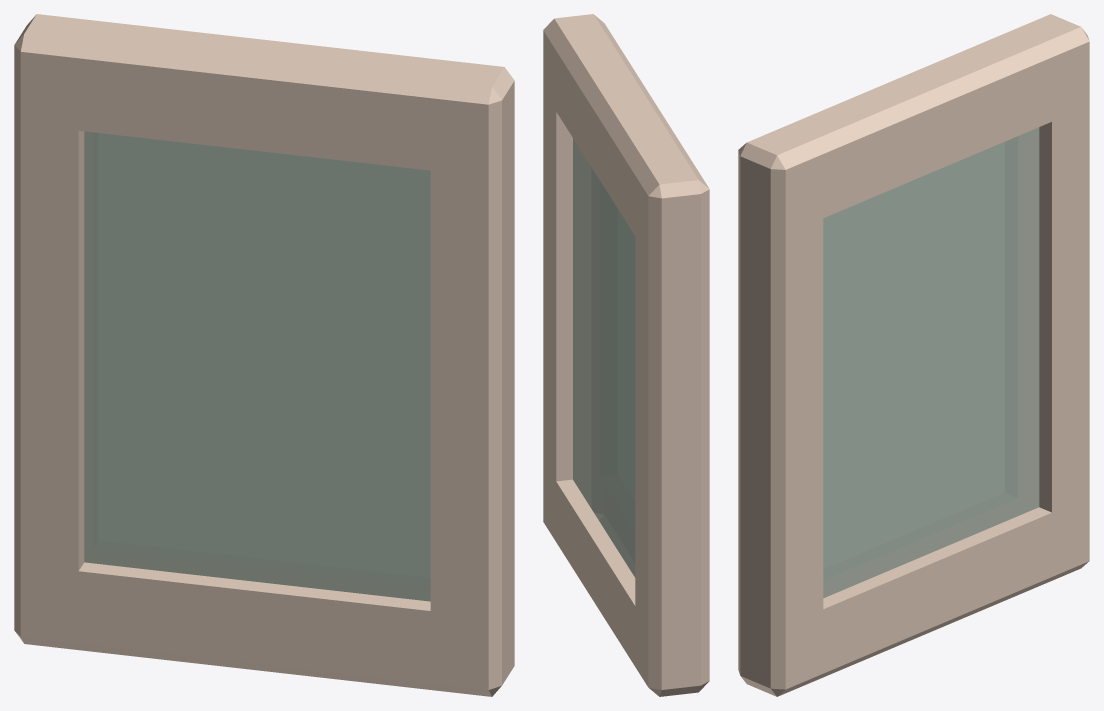
Rendered from silver_scarab.gltf.
3 views of the same model, side by side, from view 1: azimuth 30°, elevation 25°; view 2: azimuth 150°, elevation 25°; view 3: azimuth 270°, elevation 25° (orthographic). The views are drawn at different scales.
Visible parts, largest first — view 1: Plane.018; view 2: Plane.018; view 3: Plane.018.
Part boxes in pixels (x1,y1,x2,y2): Plane.018: (14,14,514,696); Plane.018: (543,14,709,696); Plane.018: (738,14,1089,696).
Bounding box in the file's own units: 1.41 × 2.4 × 1.41.
